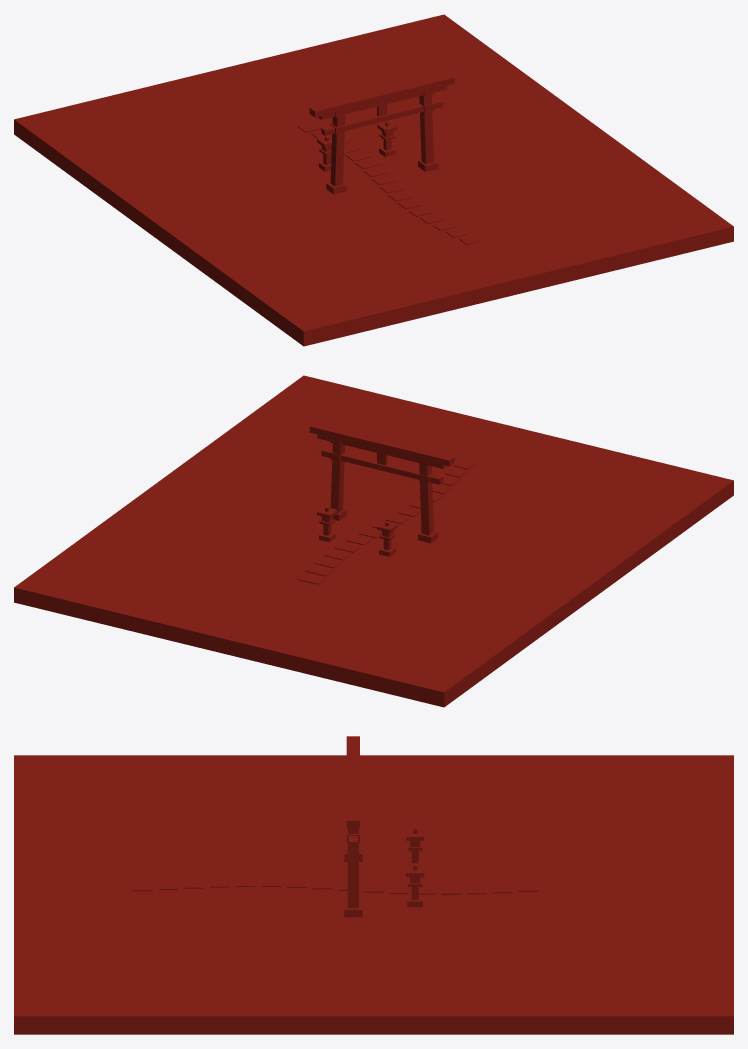
The model's file is cyber_shrine_3d.obj.
3 views of the same model, one above another, from view 1: azimuth 30°, elevation 25°; view 2: azimuth 150°, elevation 25°; view 3: azimuth 270°, elevation 25° (orthographic). The views are drawn at different scales.
Parts seen in each view (by area): view 1: ToriiSanctuary; view 2: ToriiSanctuary; view 3: ToriiSanctuary.
Part boxes in pixels (left/top/right/bottom): ToriiSanctuary: left=14, top=14, right=733, bottom=346; ToriiSanctuary: left=14, top=375, right=733, bottom=707; ToriiSanctuary: left=14, top=736, right=733, bottom=1034.
Size of the model in its own units: 60 by 13.5 by 70.
